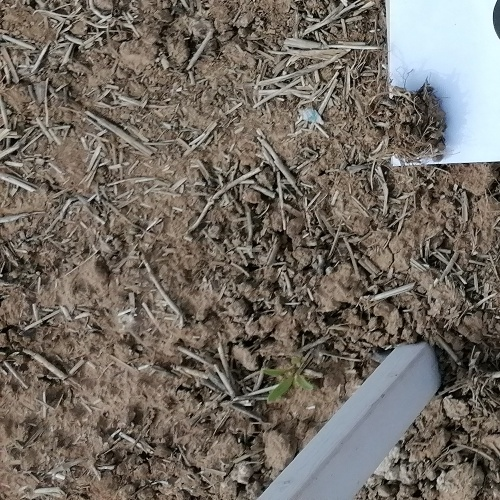beet: (263, 361, 314, 405)
